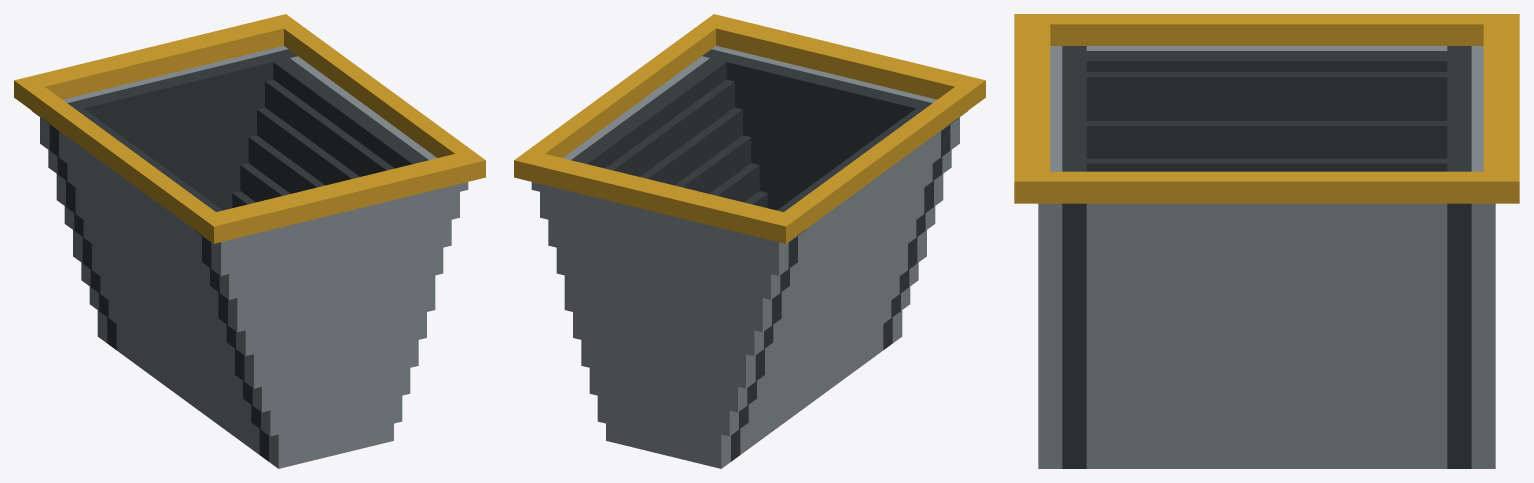
Rendered from cement_mixer_hopper.glb.
The picture shows the model from 3 angles, left to right: view 1: azimuth 30°, elevation 25°; view 2: azimuth 150°, elevation 25°; view 3: azimuth 270°, elevation 25°; orthographic projection. The views are drawn at different scales.
Parts seen in each view (by area): view 1: body:compound; view 2: body:compound; view 3: body:compound.
Boxes of the visible parts, x1,y1,x2,y2 form: body:compound: [14, 14, 485, 468]; body:compound: [514, 14, 985, 468]; body:compound: [1014, 14, 1519, 468].
Size of the model in its own units: 1.03 by 0.9688 by 1.31.
